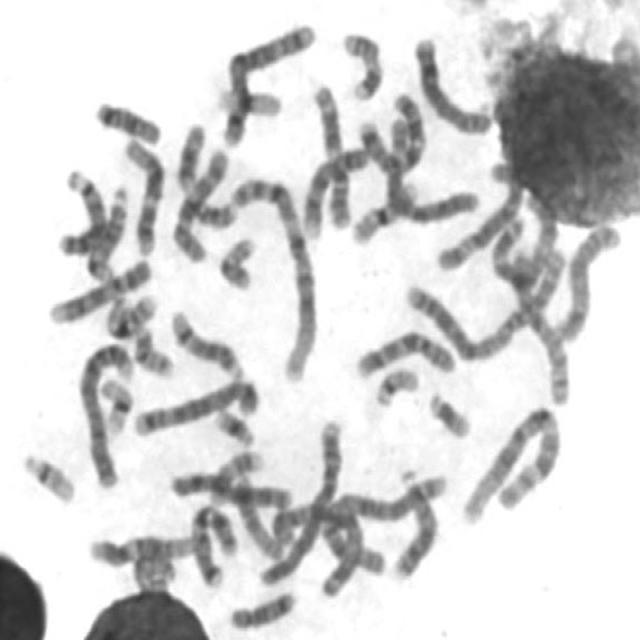A1: (225, 164, 321, 384), (455, 396, 566, 525)
A2: (400, 239, 570, 365), (313, 463, 449, 601)
A3: (267, 494, 366, 614), (484, 188, 561, 288)
B4: (256, 411, 347, 588), (74, 333, 138, 491)
B5: (215, 13, 319, 148), (128, 369, 264, 439)
C10: (166, 140, 232, 265), (350, 320, 460, 381)
C11: (172, 115, 241, 229), (306, 76, 354, 231)
C12: (118, 130, 167, 258), (82, 526, 201, 570)
C6: (430, 134, 531, 274), (378, 110, 483, 227)
C7: (353, 84, 431, 177), (186, 497, 242, 591)
C8: (408, 27, 498, 137), (550, 215, 626, 344)
C9: (44, 250, 156, 326), (298, 137, 372, 239)
D13: (383, 464, 445, 583), (59, 158, 117, 282)
D14: (165, 302, 248, 382), (80, 177, 131, 283)
D15: (227, 467, 285, 561), (120, 538, 185, 606)
E16: (347, 173, 423, 247), (100, 284, 160, 340)
E17: (201, 441, 267, 507), (336, 21, 388, 103)
E18: (90, 90, 165, 146), (224, 583, 300, 632)
F19: (211, 79, 286, 120), (95, 367, 137, 437)
F20: (212, 228, 261, 292), (128, 317, 177, 379)
G21: (422, 382, 476, 442), (209, 399, 258, 448)
G22: (15, 443, 80, 505), (370, 359, 422, 409)
X: (498, 253, 580, 415), (166, 462, 295, 510)
